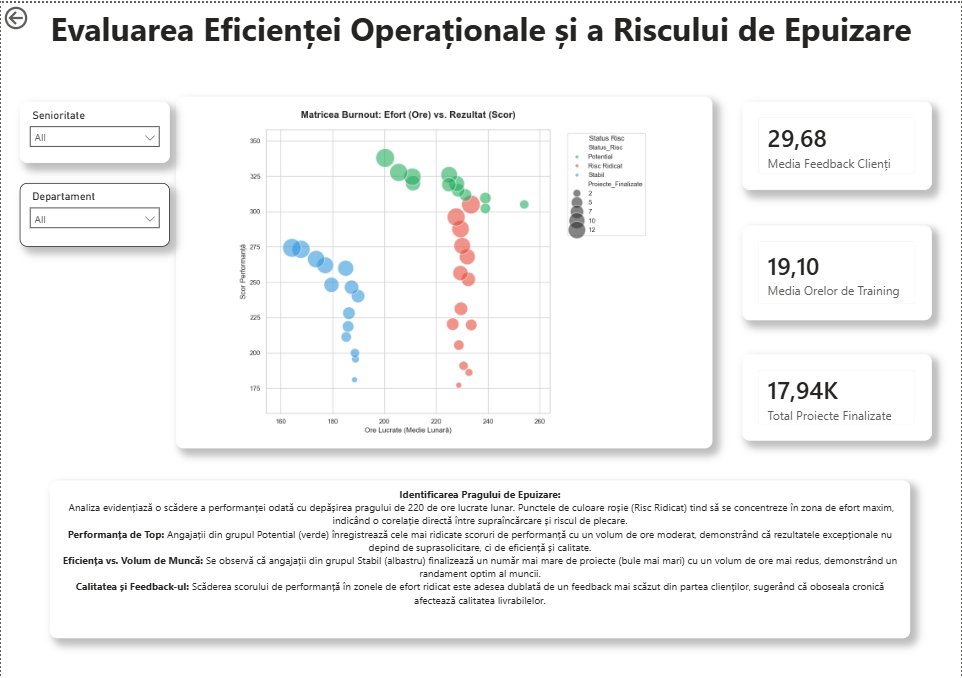

The dashboard page shown, as its layout file describes it:
{"tool":"powerbi","page":{"name":"Evaluarea Eficientei","canvas":[1280,900],"ordinal":8},"visuals":[{"type":"pythonVisual","fields":{"Values":["Avg(date_angajati.Ore_Lucrate)","Avg(date_angajati.Scor_Performanta)","date_angajati.Status_Risc","date_angajati.Proiecte_Finalizate"]},"box":[233.8,125,715,468.8],"z":0},{"type":"cardVisual","fields":{"Data":["Avg(date_angajati.Feedback_Clienti)"]},"box":[987.5,131.2,252.5,117.5],"z":1000},{"type":"cardVisual","fields":{"Data":["Avg(date_angajati.Training_Ore)"]},"box":[987.5,296.2,252.5,126.2],"z":2000},{"type":"cardVisual","fields":{"Data":["Sum(date_angajati.Proiecte_Finalizate)"]},"box":[987.5,468.8,252.5,115],"z":3000},{"type":"slicer","fields":{"Values":["date_angajati.Senioritate"]},"box":[25,131.2,200,81.2],"z":4000},{"type":"slicer","fields":{"Values":["date_angajati.Departament"]},"box":[25,240,200,85],"z":5000},{"type":"textbox","box":[65,636.2,1147.5,210],"z":6000},{"type":"textbox","box":[0,0,1280,88.8],"z":7000},{"type":"actionButton","box":[0,0,100,40],"z":8000}]}

Visuals, with their boxes in screenshot pixels (x1, y1, x2, y2), scaled from the page's 1280x900 canvas onto the 962x678 screenshot:
pythonVisual - Avg(date_angajati.Ore_Lucrate) x Avg(date_angajati.Scor_Performanta): box(176, 94, 713, 447)
cardVisual - Avg(date_angajati.Feedback_Clienti): box(742, 99, 932, 187)
cardVisual - Avg(date_angajati.Training_Ore): box(742, 223, 932, 318)
cardVisual - Sum(date_angajati.Proiecte_Finalizate): box(742, 353, 932, 440)
slicer - date_angajati.Senioritate: box(19, 99, 169, 160)
slicer - date_angajati.Departament: box(19, 181, 169, 245)
textbox: box(49, 479, 911, 637)
textbox: box(0, 0, 961, 67)
actionButton: box(0, 0, 75, 30)
